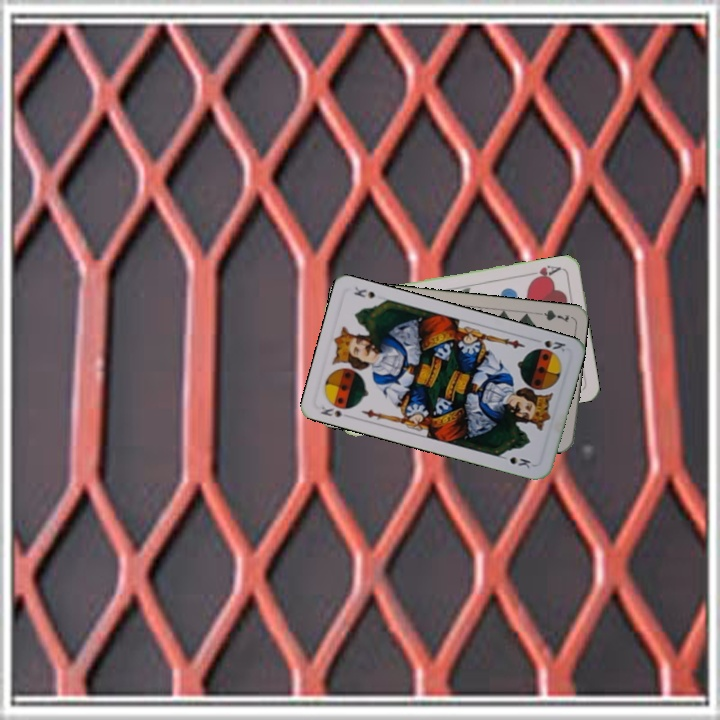G7: (531, 305, 571, 325)
HA: (525, 261, 565, 283)
SK: (316, 399, 355, 420), (540, 336, 568, 354)
